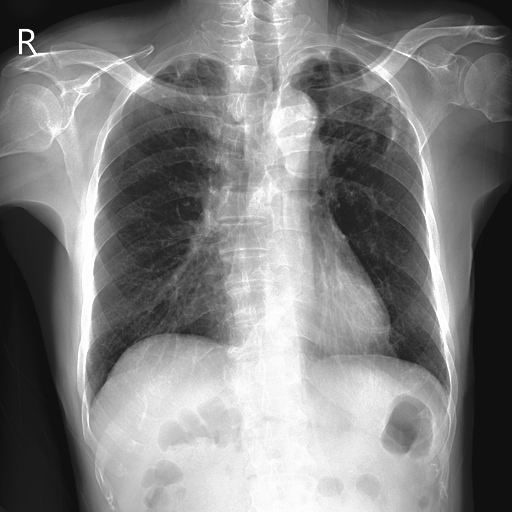Calcification: (160, 47, 226, 70), (286, 39, 337, 63)
Consolidation: (267, 89, 317, 135)
ILD: (283, 53, 404, 178), (154, 65, 243, 129)
Pneumothorax: (294, 54, 415, 159), (154, 65, 243, 129)
